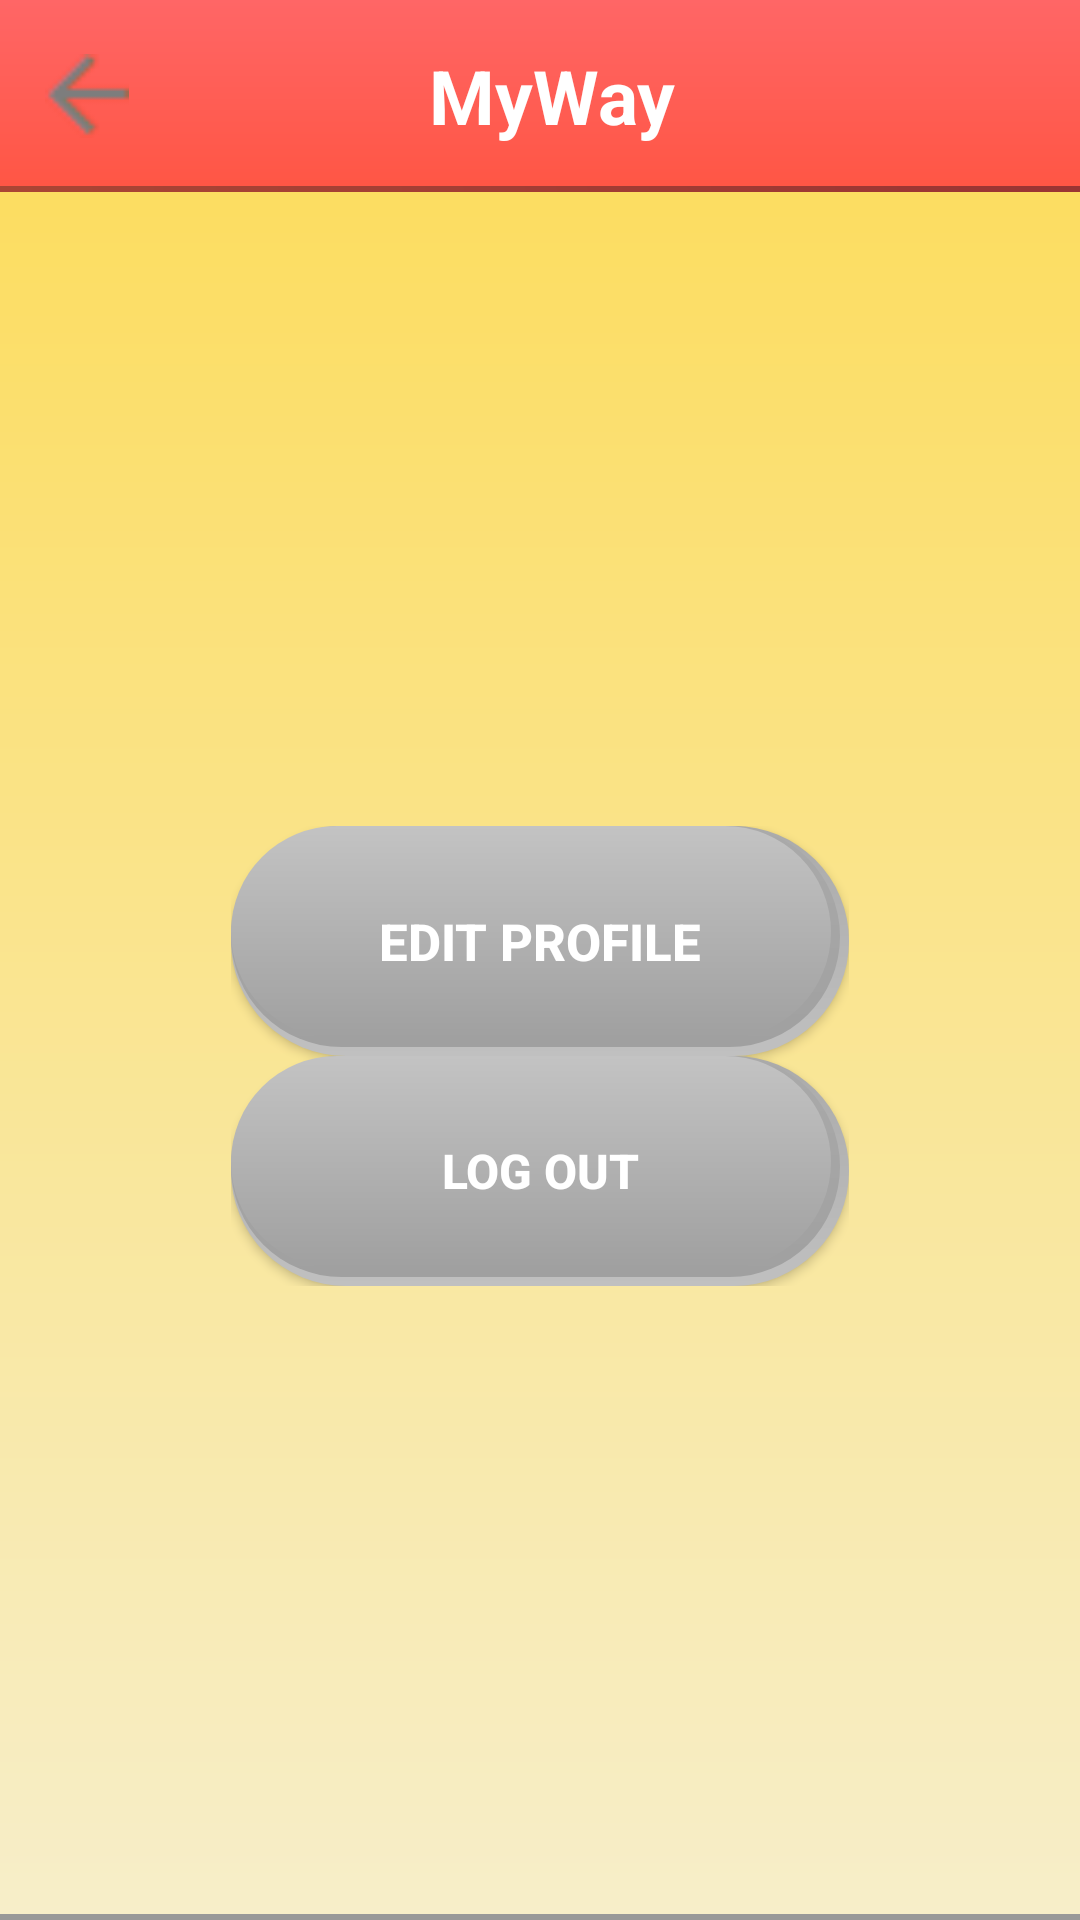

Icon bounding boxes for this 1080w x 1920h phone screenshot, format (x1, y1, x2, y2):
left: (45, 54, 129, 147)
